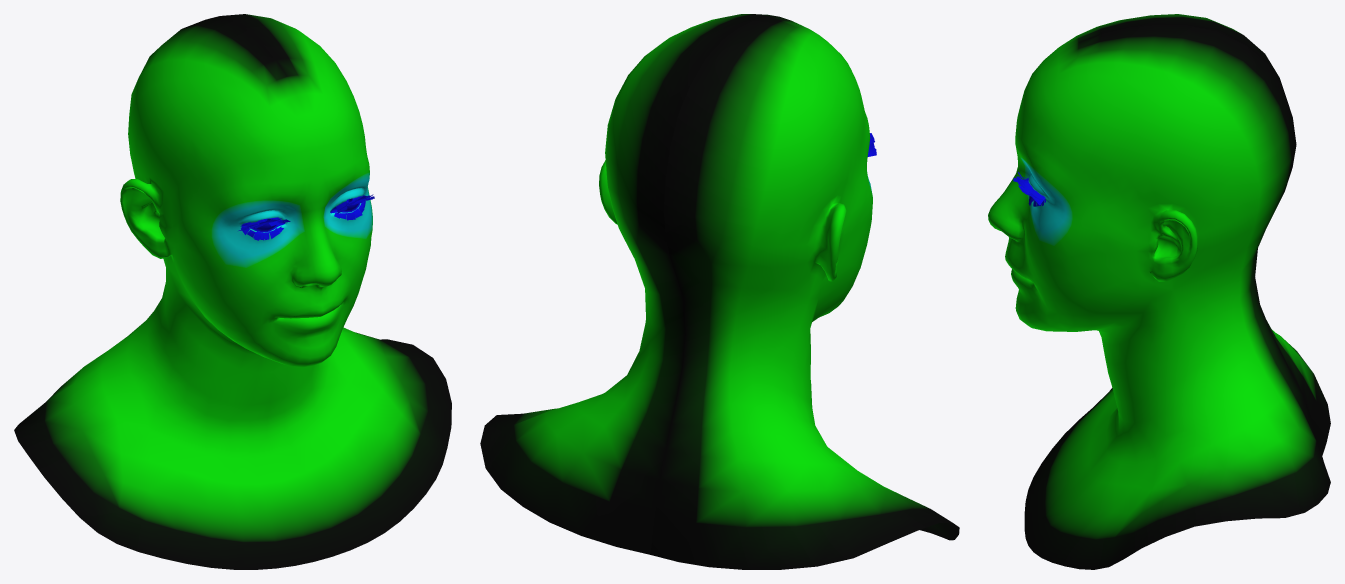
The model's file is Female_Head_0002.fbx.
The picture shows the model from 3 angles, left to right: view 1: azimuth 30°, elevation 25°; view 2: azimuth 150°, elevation 25°; view 3: azimuth 270°, elevation 25°; orthographic projection. The views are drawn at different scales.
Parts seen in each view (by area): view 1: pasted__Face_LOD3; view 2: pasted__Face_LOD3; view 3: pasted__Face_LOD3.
Boxes of the visible parts, left/top/right/bottom form: pasted__Face_LOD3: left=14, top=14, right=451, bottom=569; pasted__Face_LOD3: left=480, top=14, right=959, bottom=569; pasted__Face_LOD3: left=988, top=14, right=1330, bottom=569.
Bounding box in the file's own units: 31.21 × 35.68 × 22.3.
